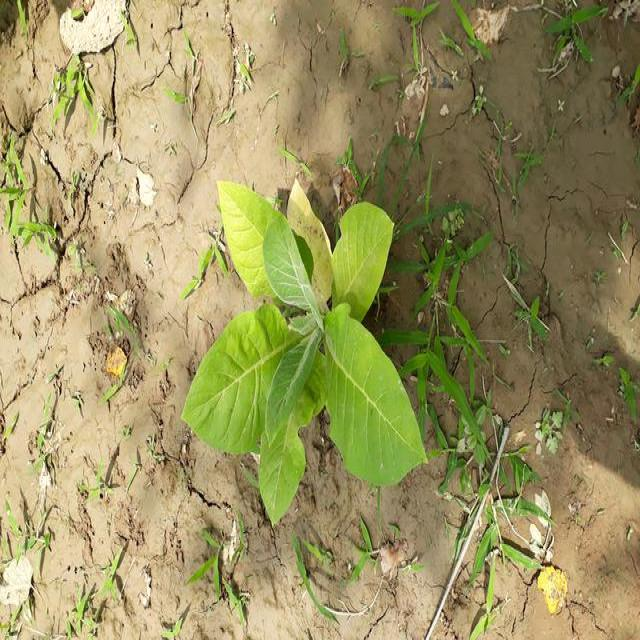crop: (190, 178, 424, 521)
